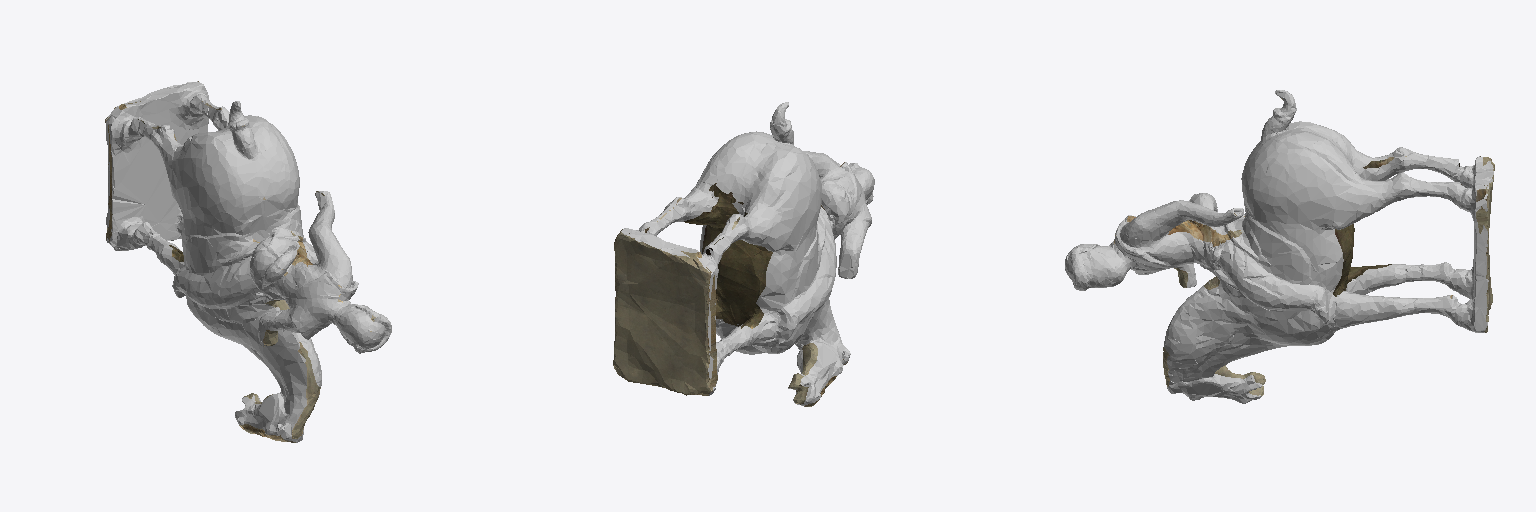
3 views of the same model, side by side, from view 1: azimuth 30°, elevation 25°; view 2: azimuth 150°, elevation 25°; view 3: azimuth 270°, elevation 25° (orthographic).
Visible parts, largest first — view 1: Polygonal_Model_1 88; view 2: Polygonal_Model_1 88; view 3: Polygonal_Model_1 88.
Boxes of the visible parts, <box> form: Polygonal_Model_1 88: <box>105,81,391,442</box>; Polygonal_Model_1 88: <box>613,102,874,406</box>; Polygonal_Model_1 88: <box>1065,90,1494,403</box>.
Bounding box in the file's own units: 93.68 × 240 × 297.
11 materials, 6 textured.